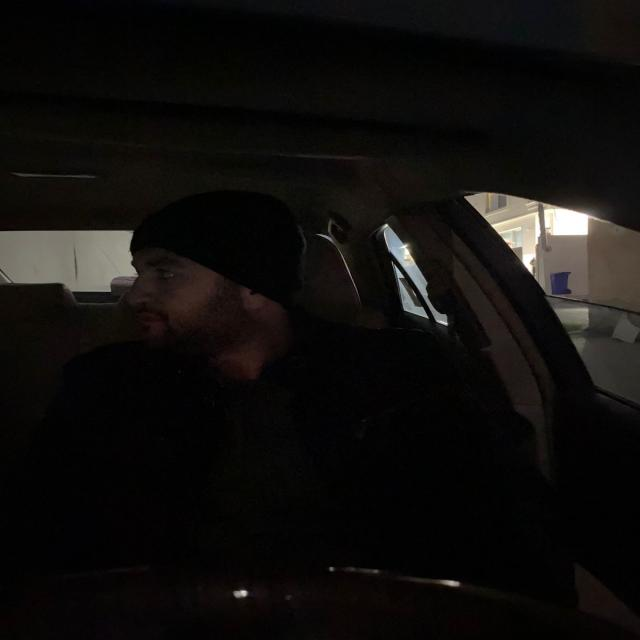LeftRight: (118, 195, 304, 376)
